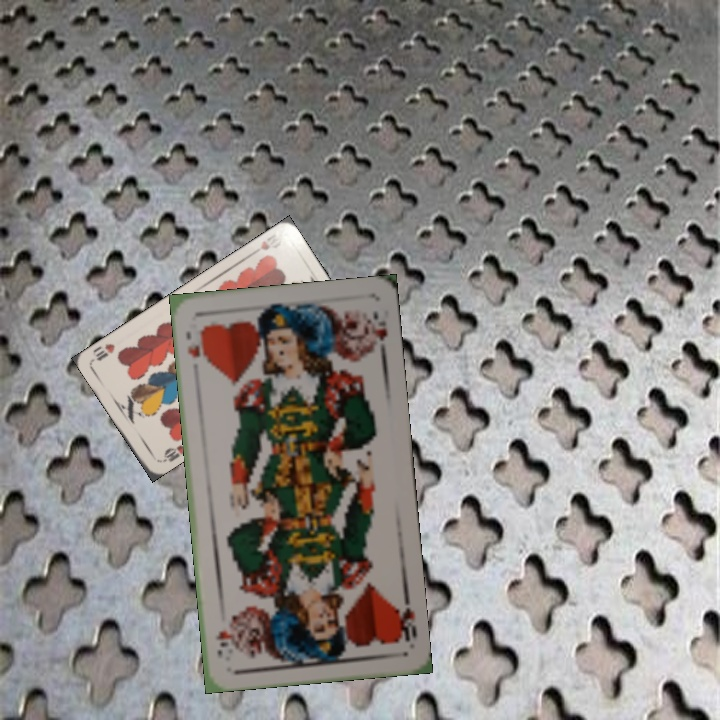H10: (156, 440, 188, 465), (247, 236, 273, 258)
HO: (391, 601, 419, 645), (182, 321, 209, 361)
